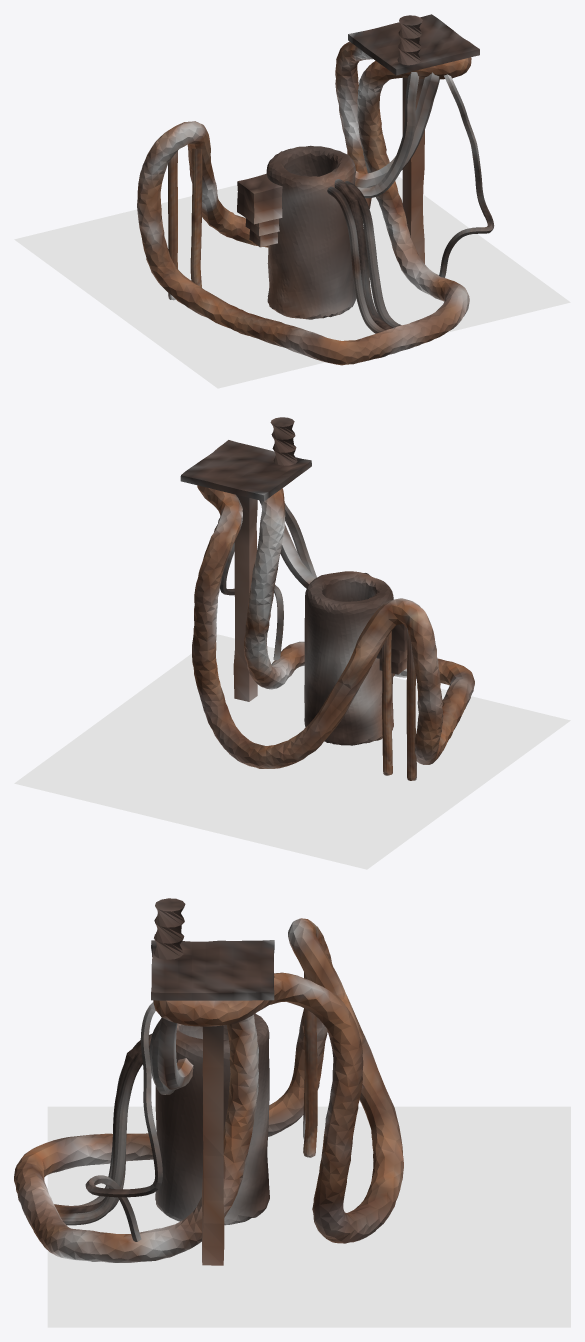
File: Constru_deco.fbx
3 renders of one model, top to bottom at view 1: azimuth 30°, elevation 25°; view 2: azimuth 150°, elevation 25°; view 3: azimuth 270°, elevation 25°, orthographic. The views are drawn at different scales.
Visible parts, largest first — view 1: Plan, Tube (×5), Tube 3, Boîte (×2), Cylindre (×2), Tube 1, Tube 5, Tube 2; view 2: Plan, Tube (×5), Tube 3, Cylindre (×2), Boîte; view 3: Plan, Tube (×5), Tube 3, Cylindre (×2), Boîte, Tube 1, Tube 5.
Part boxes in pixels (x1=…): Plan: x1=14, y1=176, x2=570, y2=388; Tube (×5): x1=137, y1=15, x2=494, y2=365; Tube 3: x1=266, y1=145, x2=356, y2=319; Boîte (×2): x1=237, y1=14, x2=479, y2=224; Cylindre (×2): x1=168, y1=77, x2=424, y2=300; Tube 1: x1=345, y1=181, x2=401, y2=327; Tube 5: x1=334, y1=179, x2=392, y2=330; Tube 2: x1=327, y1=186, x2=385, y2=333; Plan: x1=14, y1=634, x2=570, y2=869; Tube (×5): x1=192, y1=417, x2=474, y2=768; Tube 3: x1=304, y1=571, x2=393, y2=745; Cylindre (×2): x1=233, y1=495, x2=416, y2=780; Boîte: x1=180, y1=440, x2=311, y2=501; Plan: x1=47, y1=1106, x2=570, y2=1327; Tube (×5): x1=14, y1=898, x2=403, y2=1262; Tube 3: x1=155, y1=1013, x2=269, y2=1225; Cylindre (×2): x1=202, y1=972, x2=317, y2=1265; Boîte: x1=151, y1=940, x2=274, y2=1000; Tube 1: x1=59, y1=1044, x2=150, y2=1225; Tube 5: x1=55, y1=1033, x2=152, y2=1213.
Size of the model in its own units: 4.21 by 3.18 by 4.49.
